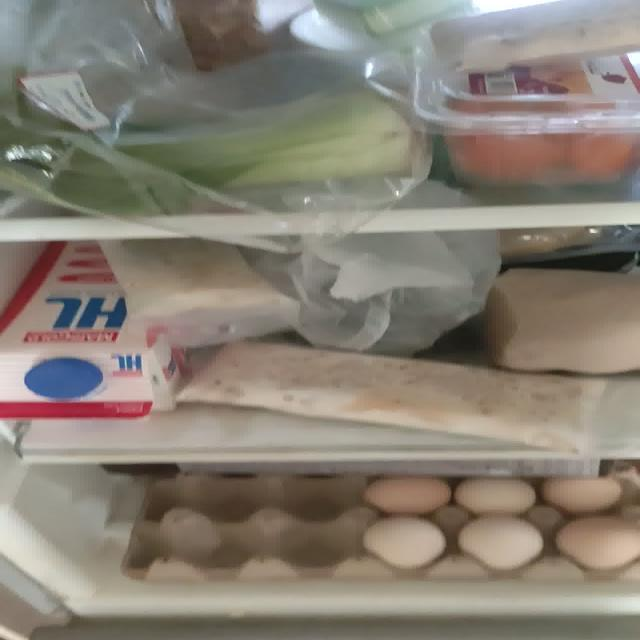egg: (118, 474, 640, 585)
pakchoy: (0, 86, 417, 219)
tempeh: (178, 340, 610, 453), (95, 238, 299, 318)
